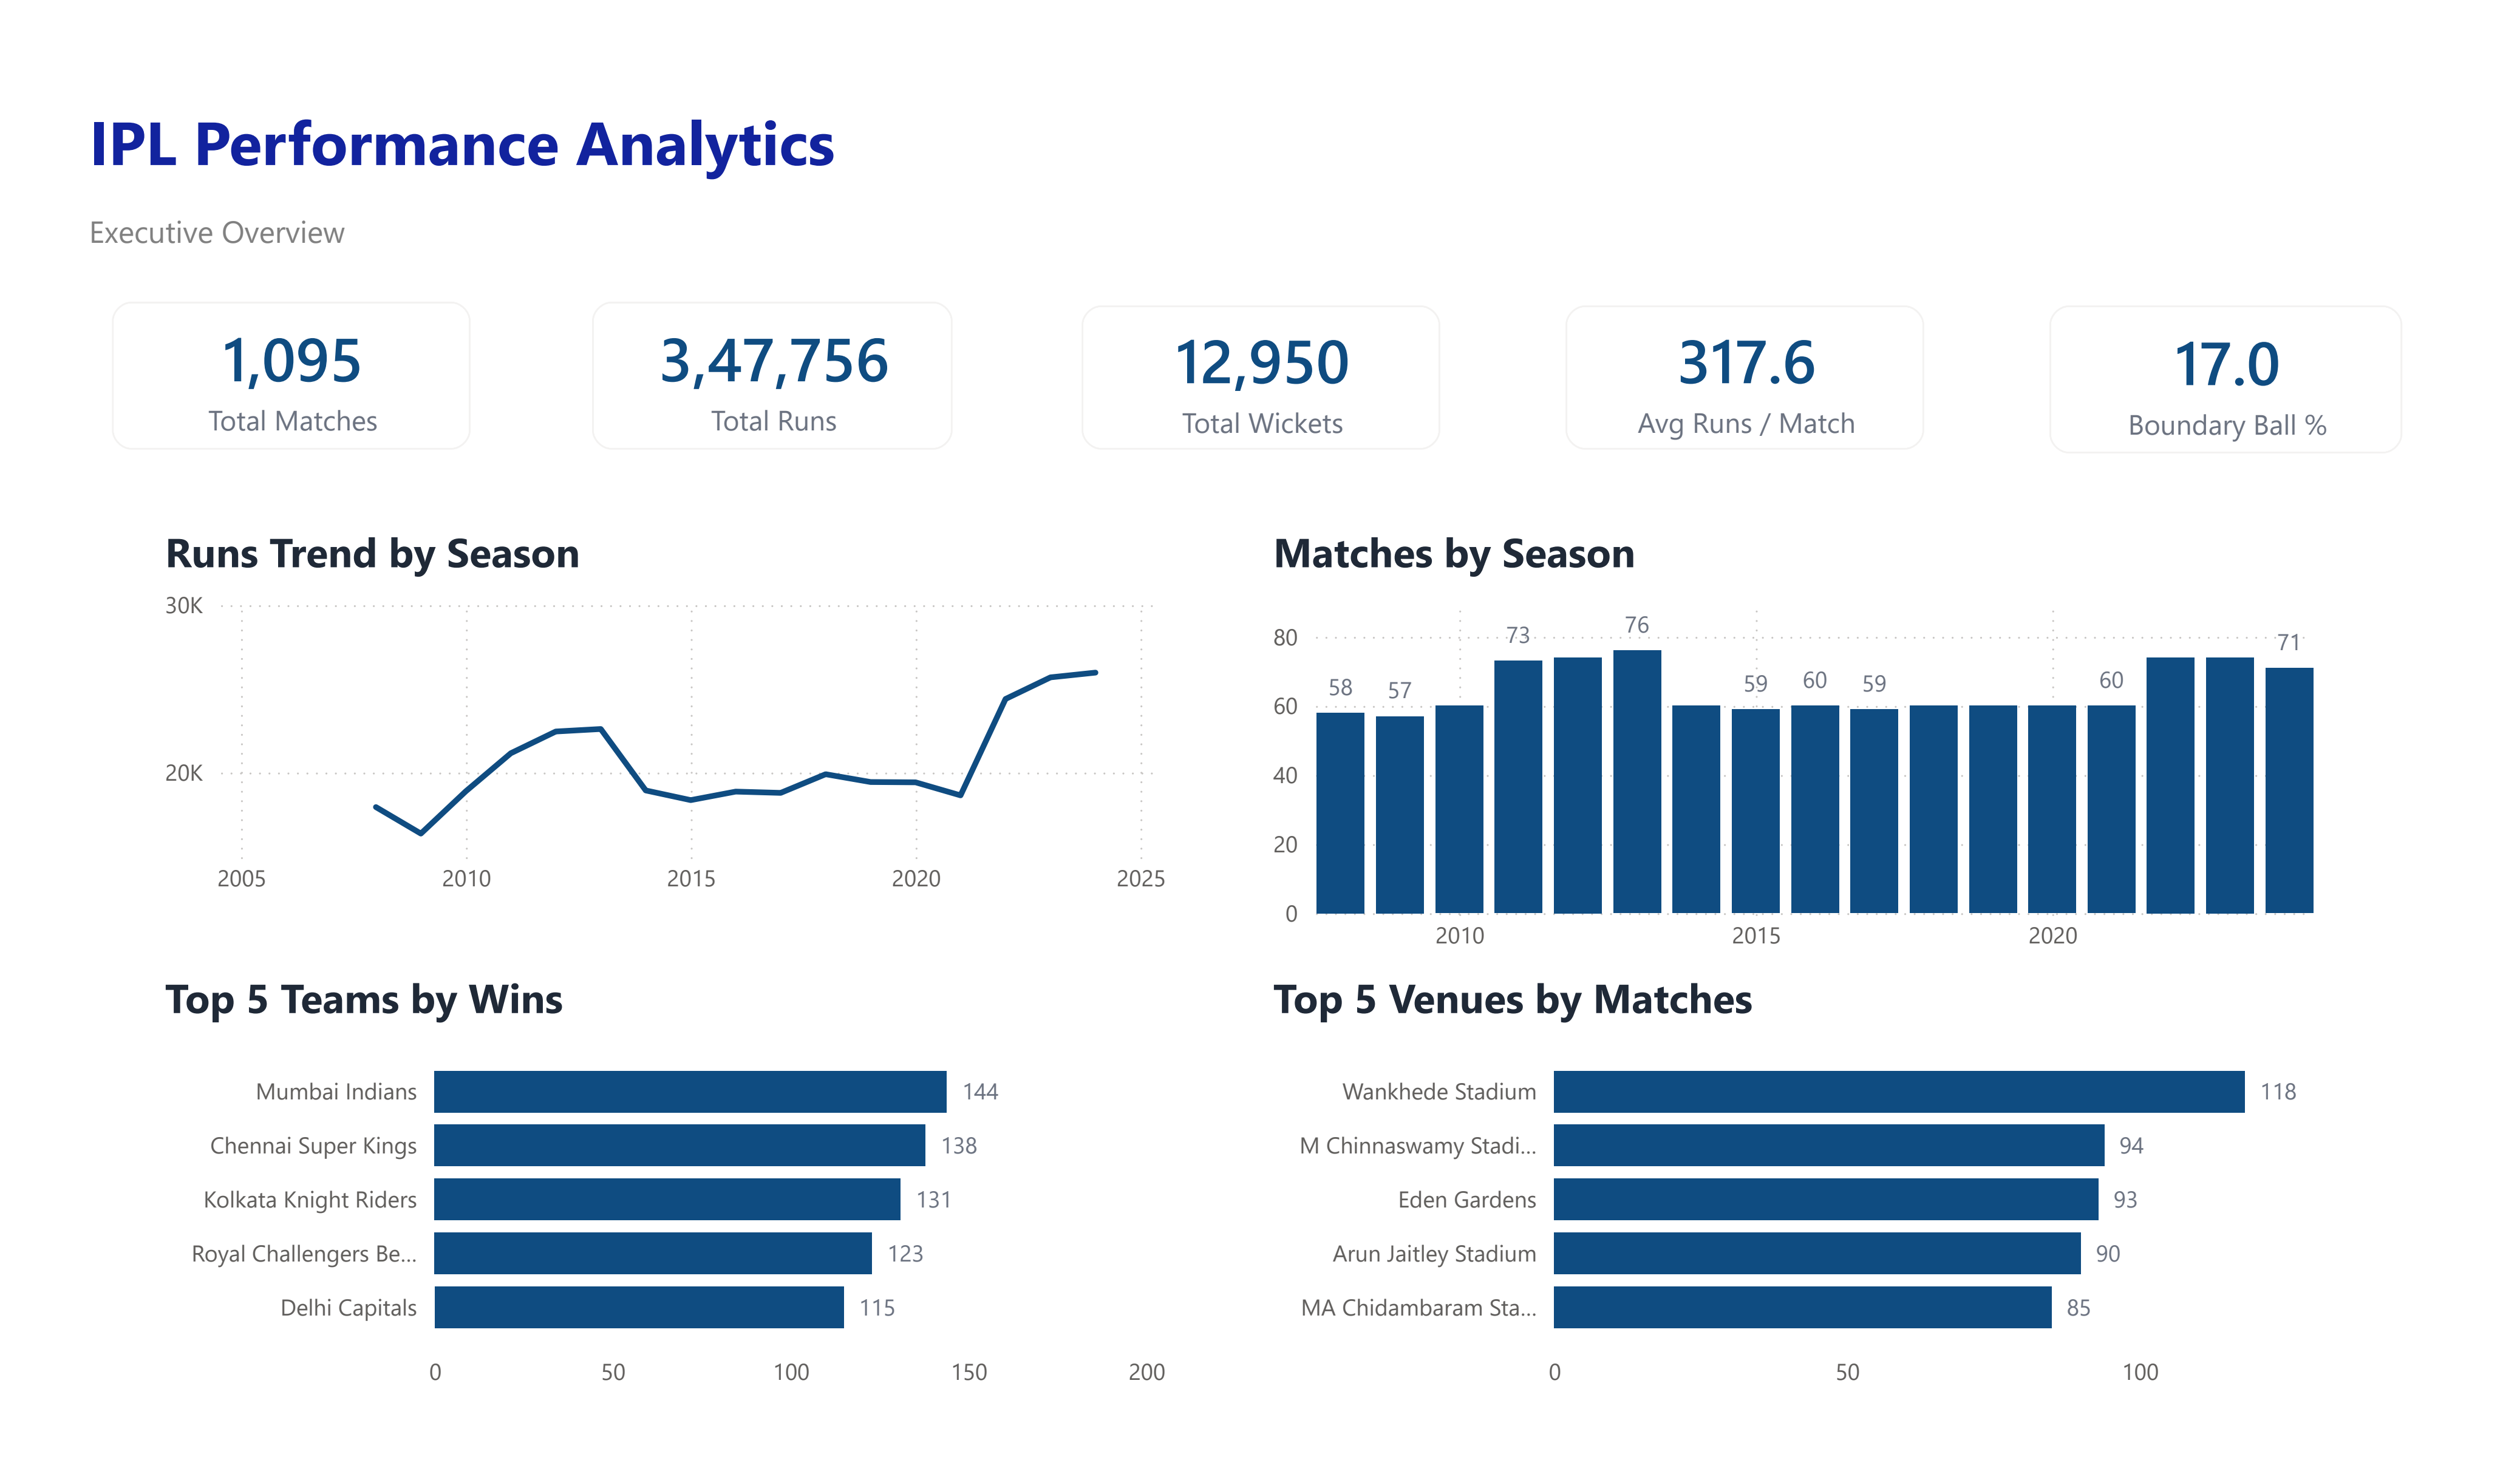

What the dashboard file says about the page in this screenshot:
{"tool":"powerbi","page":{"name":"Executive Overview","canvas":[1280,720],"ordinal":0},"visuals":[{"type":"textbox","box":[18.3,23.3,410,58.3],"z":0},{"type":"textbox","box":[18.3,81.7,148.3,35],"z":1000},{"type":"cardVisual","fields":{"Data":["_Measures.Total Matches"]},"box":[17.9,117.9,223.2,112.5],"z":2000},{"type":"cardVisual","fields":{"Data":["_Measures.Total Runs"]},"box":[271.4,117.9,223.2,112.5],"z":3000},{"type":"cardVisual","fields":{"Data":["_Measures.Total Wickets"]},"box":[528.6,119.6,223.2,110.7],"z":4000},{"type":"cardVisual","fields":{"Data":["_Measures.Boundary %"]},"box":[1039.3,119.6,219.6,112.5],"z":5000},{"type":"cardVisual","fields":{"Data":["_Measures.Average Runs Per Match"]},"box":[783.9,119.6,223.2,110.7],"z":6000},{"type":"lineChart","title":"Runs Trend by Season","fields":{"Category":["Dim Date.Year"],"Y":["_Measures.Total Runs"]},"box":[58.3,251.7,536.7,205],"z":7000},{"type":"clusteredColumnChart","title":"Matches by Season","fields":{"Category":["Dim Date.Year"],"Y":["_Measures.Total Matches"]},"box":[641.7,251.7,560,235],"z":8000},{"type":"clusteredBarChart","title":"Top 5 Venues by Matches","fields":{"Category":["Dim Venue.Venue"],"Y":["_Measures.Total Matches"]},"box":[641.7,486.7,560,230],"z":9000},{"type":"clusteredBarChart","title":"Top 5 Teams by Wins","fields":{"Category":["Dim Team.Team"],"Y":["Sum(Dim Team.Wins)"]},"box":[58.3,486.7,536.7,230],"z":10000}]}

Visuals, with their boxes on the page's 1280x720 design canvas (x1, y1, x2, y2). These are canvas units, not pixel positions in the 2520x1457 screenshot, which may show the page scaled, cropped or inside an application window:
textbox: [x1=18, y1=23, x2=428, y2=82]
textbox: [x1=18, y1=82, x2=167, y2=117]
cardVisual - _Measures.Total Matches: [x1=18, y1=118, x2=241, y2=230]
cardVisual - _Measures.Total Runs: [x1=271, y1=118, x2=495, y2=230]
cardVisual - _Measures.Total Wickets: [x1=529, y1=120, x2=752, y2=230]
cardVisual - _Measures.Boundary %: [x1=1039, y1=120, x2=1259, y2=232]
cardVisual - _Measures.Average Runs Per Match: [x1=784, y1=120, x2=1007, y2=230]
"Runs Trend by Season" lineChart: [x1=58, y1=252, x2=595, y2=457]
"Matches by Season" clusteredColumnChart: [x1=642, y1=252, x2=1202, y2=487]
"Top 5 Venues by Matches" clusteredBarChart: [x1=642, y1=487, x2=1202, y2=717]
"Top 5 Teams by Wins" clusteredBarChart: [x1=58, y1=487, x2=595, y2=717]
